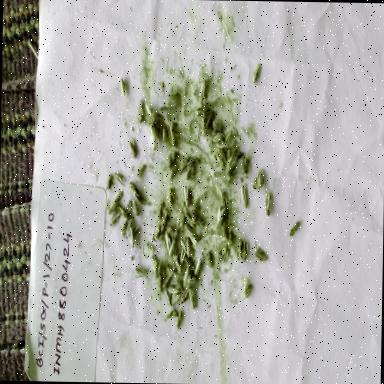pbw: (147, 120, 159, 154), (260, 190, 274, 219), (239, 181, 253, 210), (250, 60, 263, 91), (240, 153, 254, 181), (204, 107, 218, 134), (167, 116, 177, 150), (255, 242, 269, 266), (180, 280, 192, 308), (192, 103, 208, 124), (140, 96, 154, 119), (163, 301, 178, 322), (174, 308, 186, 334), (184, 155, 196, 181), (160, 282, 172, 308), (167, 160, 181, 182), (185, 228, 200, 248), (242, 279, 256, 300), (218, 193, 228, 222), (162, 260, 178, 278), (215, 204, 226, 230), (164, 146, 178, 166), (235, 236, 245, 264), (132, 263, 148, 280), (136, 97, 146, 124), (216, 142, 230, 161), (196, 116, 207, 140), (198, 76, 209, 100), (255, 168, 266, 191), (190, 201, 201, 224), (136, 159, 147, 182), (204, 249, 216, 270), (225, 154, 237, 175), (218, 243, 229, 265), (130, 134, 140, 158), (112, 186, 124, 206), (172, 250, 182, 274), (164, 84, 178, 101), (158, 122, 167, 148), (166, 186, 176, 209), (188, 287, 196, 315), (150, 111, 163, 128), (151, 222, 162, 242), (130, 196, 140, 218), (179, 154, 189, 176), (128, 180, 140, 198), (194, 212, 206, 230), (193, 254, 202, 278), (164, 97, 178, 112), (182, 265, 192, 286), (213, 150, 224, 169), (134, 192, 147, 208), (164, 232, 174, 252), (154, 200, 164, 220), (182, 185, 191, 207), (223, 126, 234, 144), (126, 226, 134, 250), (160, 204, 168, 228), (212, 119, 224, 135), (252, 170, 260, 194), (172, 274, 184, 290), (119, 74, 127, 98), (110, 212, 121, 229), (184, 237, 192, 260), (102, 198, 112, 216), (184, 210, 194, 228), (114, 167, 126, 182), (177, 210, 185, 232), (144, 240, 155, 256), (156, 267, 164, 289), (152, 256, 159, 281), (105, 174, 114, 193), (211, 132, 223, 146), (228, 222, 234, 250), (183, 221, 195, 235), (116, 204, 128, 218), (166, 223, 176, 239), (221, 221, 228, 243), (226, 167, 234, 186), (178, 236, 188, 251), (166, 286, 180, 296), (242, 238, 248, 260), (132, 225, 140, 239), (180, 248, 186, 266), (158, 104, 169, 112)
